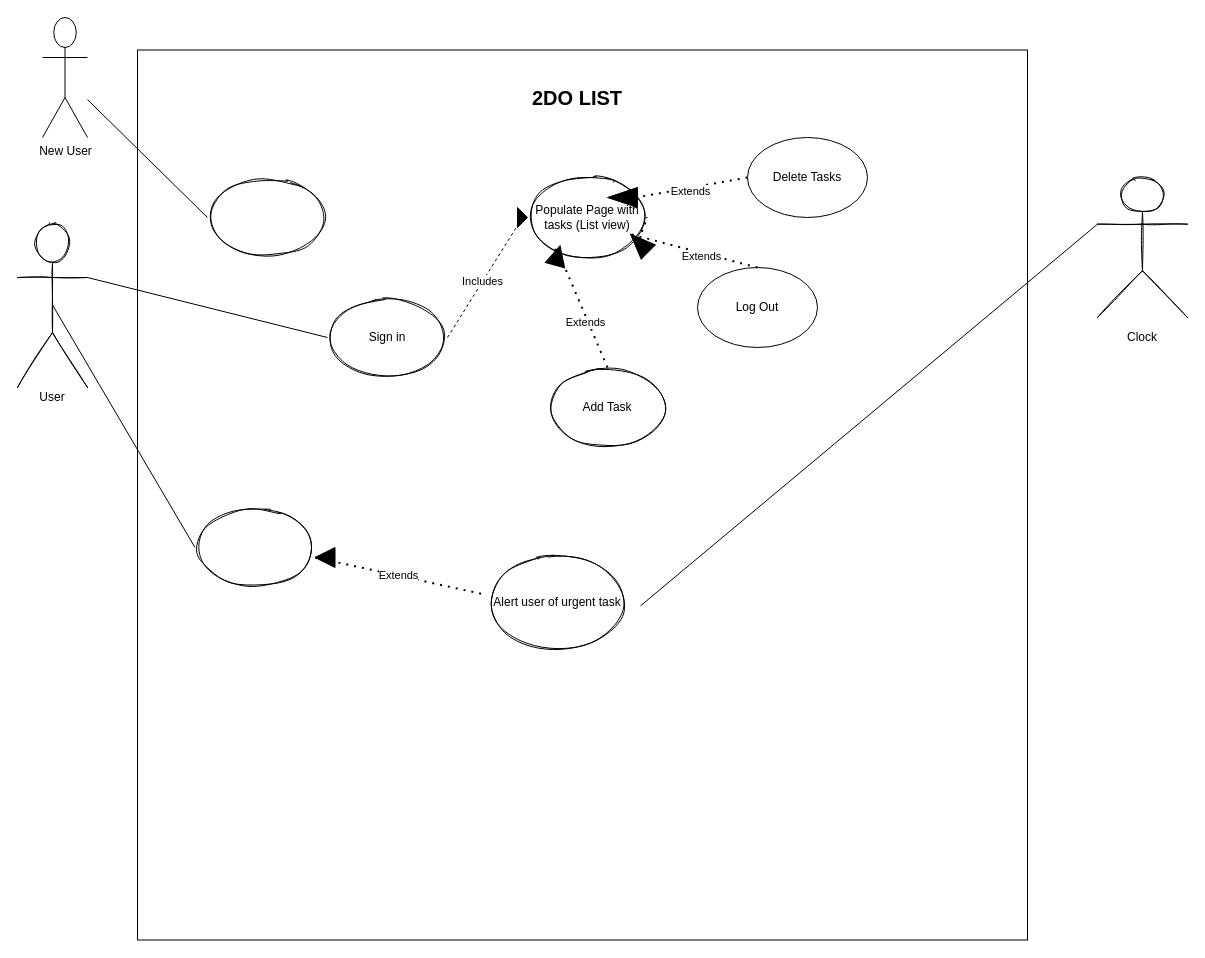
Image size: 1205x958. Some labels were removed from this diagram. Here are the shapes that lost their labels. From the top down, the centre of each, then its label:
At pixel 267 217: "Sign Up".
At pixel 254 547: "View tasks in Calendar Mode".
